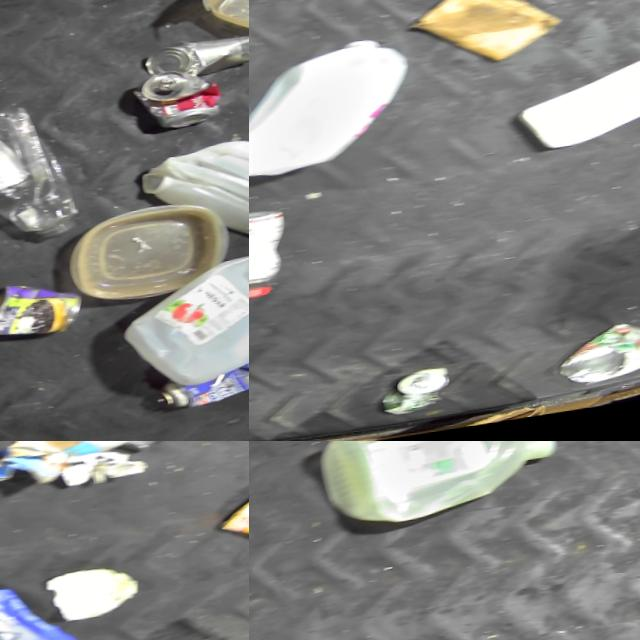can: (154, 351, 249, 425), (131, 73, 227, 146), (0, 281, 86, 353), (559, 329, 640, 401), (142, 41, 249, 94), (382, 374, 457, 428), (218, 481, 249, 560)
milk_jug: (249, 40, 417, 190), (314, 441, 559, 541), (117, 250, 249, 407), (136, 130, 249, 284)
plastic_bottle: (0, 103, 85, 259)
